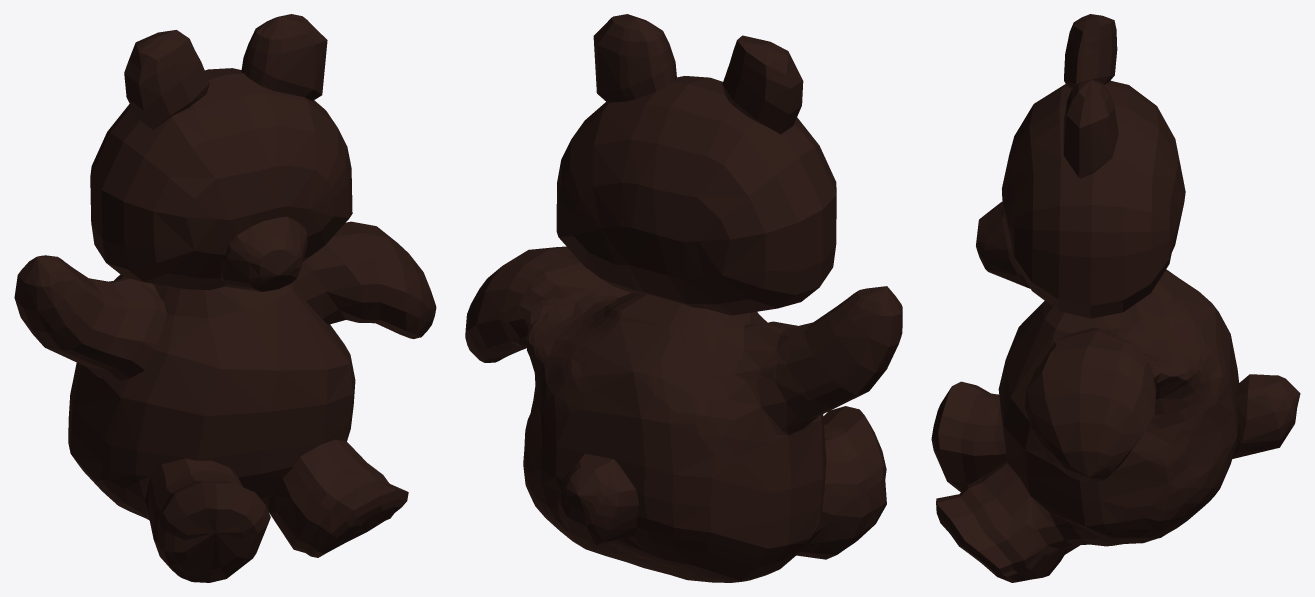
File: teddybear.obj
The picture shows the model from 3 angles, left to right: view 1: azimuth 30°, elevation 25°; view 2: azimuth 150°, elevation 25°; view 3: azimuth 270°, elevation 25°; orthographic projection. The views are drawn at different scales.
Visible parts, largest first — view 1: teddy; view 2: teddy; view 3: teddy.
Part boxes in pixels (x1=…): teddy: x1=14, y1=14, x2=436, y2=582; teddy: x1=465, y1=14, x2=902, y2=582; teddy: x1=931, y1=14, x2=1300, y2=582.
Bounding box in the file's own units: 4.27 × 5.23 × 3.52.
